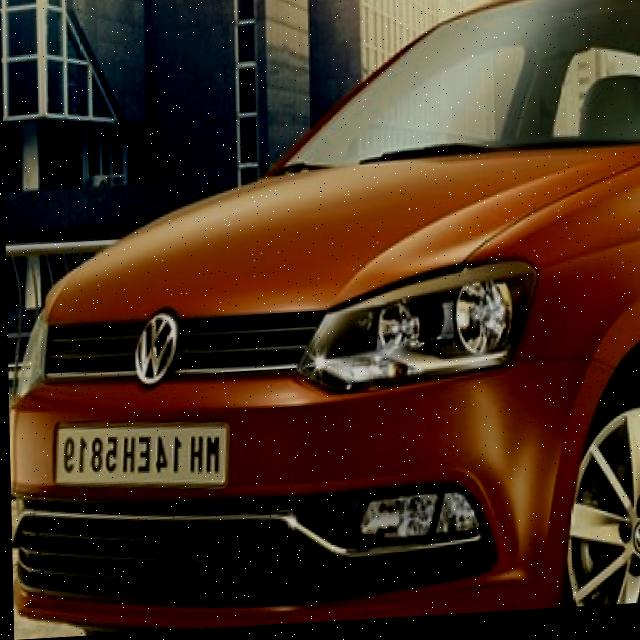plate: (51, 415, 229, 495)
